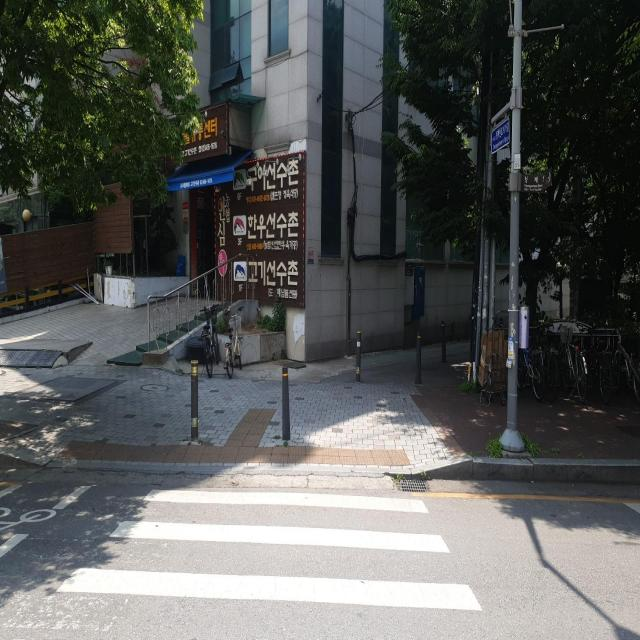횡단보도: (54, 487, 486, 613)
